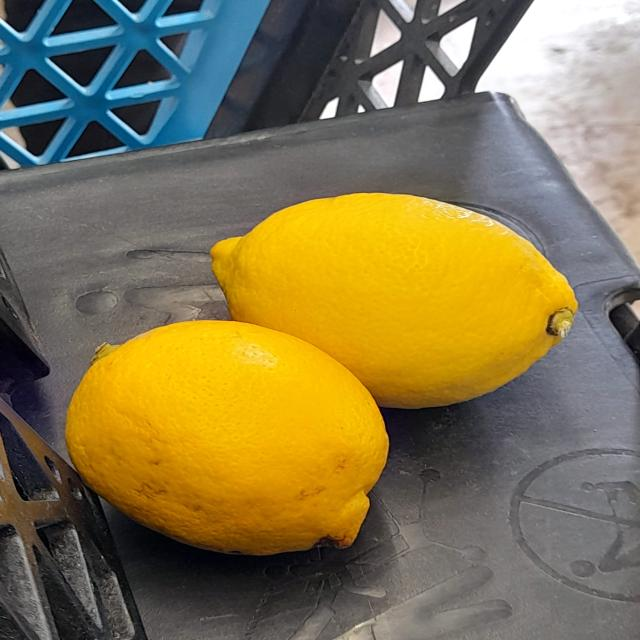lemon: (195, 167, 579, 414), (52, 303, 400, 562)
